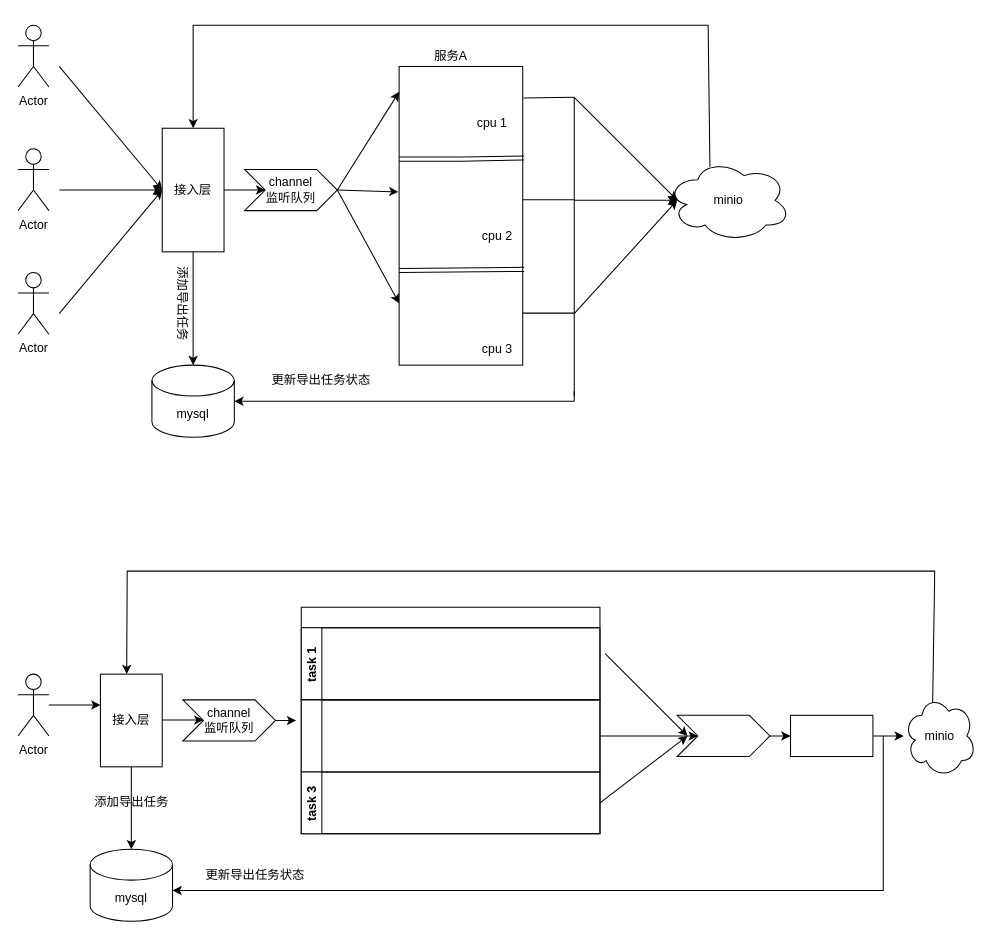
Some shapes in this 994 by 939 pixel diagram are drawn without their labels. Each missing label, with the box of its shape:
channel 队列: (676, 714, 770, 757)
task 2: (300, 699, 600, 772)
单一任务在多核cpu上并行处理查询等量数据: (300, 606, 600, 834)
生成Excel: (789, 714, 873, 757)
